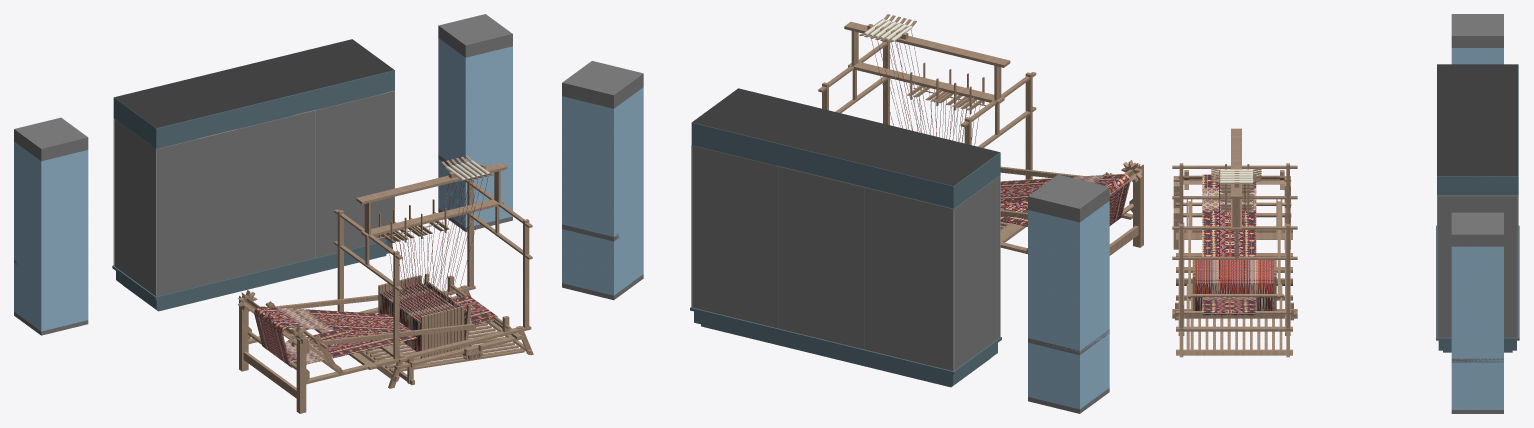
Rendered from LimeExp_3.fbx.
3 views of the same model, side by side, from view 1: azimuth 30°, elevation 25°; view 2: azimuth 150°, elevation 25°; view 3: azimuth 270°, elevation 25° (orthographic). The views are drawn at different scales.
Visible parts, largest first — view 1: [213809], 组#15 [214817] (×2), 组#82 [214213], Obj3d66-573012-1-557 [214413], 组#16 [214822] (×2), 组#55 [213761], Component726 [214377], Component684 [214478], Obj3d66-573012-92-125 [214634], Component726 [214353], Obj3d66-573012-90-367 [214338], Component708 [214579] (+11 smaller); view 2: [213809], 组#15 [214817] (×2), 组#82 [214213], 组#16 [214822] (×2), 组#55 [213761], Obj3d66-573012-1-557 [214413], Obj3d66-573012-92-125 [214634], Obj3d66-573012-90-367 [214338], Component726 [214353], Component726 [214377], Component687 [214687], Component714 [214548] (+1 smaller); view 3: 组#82 [214213], 组#15 [214817] (×2), [213809], Obj3d66-573012-1-557 [214413], 组#16 [214822] (×2), Component727 [214344], Obj3d66-573012-42-58 [214420], 组#55 [213761], Obj3d66-573012-43-618 [214493], Obj3d66-573012-90-367 [214338], Component714 [214359], Component702 [214684] (+11 smaller).
Boxes of the visible parts, bbox=[...] form: [213809]: bbox=[114, 91, 393, 296]; 组#15 [214817] (×2): bbox=[14, 38, 512, 331]; 组#82 [214213]: bbox=[113, 39, 394, 148]; Obj3d66-573012-1-557 [214413]: bbox=[254, 295, 497, 367]; 组#16 [214822] (×2): bbox=[14, 14, 512, 161]; 组#55 [213761]: bbox=[112, 239, 395, 309]; Component726 [214377]: bbox=[400, 178, 487, 310]; Component684 [214478]: bbox=[306, 326, 531, 384]; Obj3d66-573012-92-125 [214634]: bbox=[361, 199, 503, 237]; Component726 [214353]: bbox=[387, 180, 471, 300]; Obj3d66-573012-90-367 [214338]: bbox=[356, 162, 507, 204]; Component708 [214579]: bbox=[316, 323, 476, 345]; [213809]: bbox=[692, 146, 999, 370]; 组#15 [214817] (×2): bbox=[562, 87, 1109, 409]; 组#82 [214213]: bbox=[691, 88, 1000, 208]; 组#16 [214822] (×2): bbox=[562, 61, 1109, 222]; 组#55 [213761]: bbox=[690, 307, 1001, 385]; Obj3d66-573012-1-557 [214413]: bbox=[1000, 173, 1130, 226]; Obj3d66-573012-92-125 [214634]: bbox=[848, 62, 1004, 104]; Obj3d66-573012-90-367 [214338]: bbox=[844, 21, 1010, 67]; Component726 [214353]: bbox=[871, 39, 966, 141]; Component726 [214377]: bbox=[889, 29, 980, 145]; Component687 [214687]: bbox=[1129, 162, 1143, 247]; Component714 [214548]: bbox=[1025, 72, 1032, 179]; 组#82 [214213]: bbox=[1437, 64, 1518, 195]; 组#15 [214817] (×2): bbox=[1451, 48, 1503, 409]; [213809]: bbox=[1437, 196, 1517, 337]; Obj3d66-573012-1-557 [214413]: bbox=[1202, 174, 1256, 315]; 组#16 [214822] (×2): bbox=[1451, 14, 1503, 246]; Component727 [214344]: bbox=[1195, 281, 1273, 310]; Obj3d66-573012-42-58 [214420]: bbox=[1176, 349, 1292, 355]; 组#55 [213761]: bbox=[1436, 225, 1519, 350]; Obj3d66-573012-43-618 [214493]: bbox=[1176, 326, 1292, 331]; Obj3d66-573012-90-367 [214338]: bbox=[1231, 128, 1241, 198]; Component714 [214359]: bbox=[1179, 224, 1183, 328]; Component702 [214684]: bbox=[1172, 314, 1297, 318].
Size of the model in its own units: 236 by 89.41 by 157.
